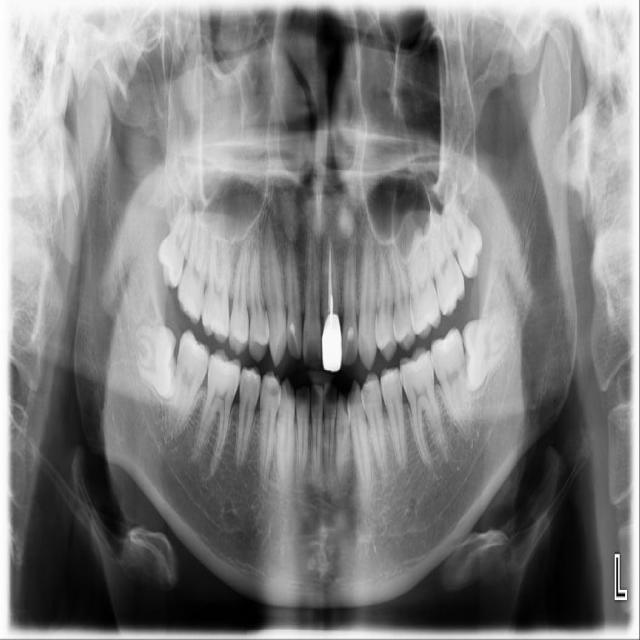Crown: (322, 312, 342, 372)
Filling: (342, 316, 358, 365), (287, 312, 302, 360)
Root Canal Treatment: (328, 242, 331, 294)
impacted tooth: (465, 307, 515, 394), (133, 324, 181, 395)
